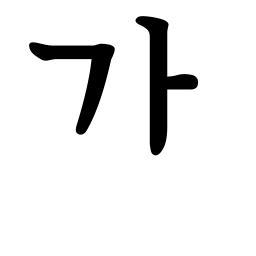Gaji: (138, 62, 187, 107)
